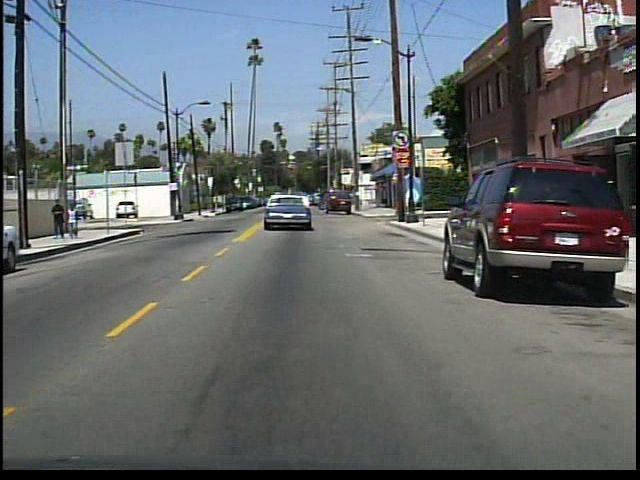person: (53, 197, 70, 240), (65, 201, 84, 239)
